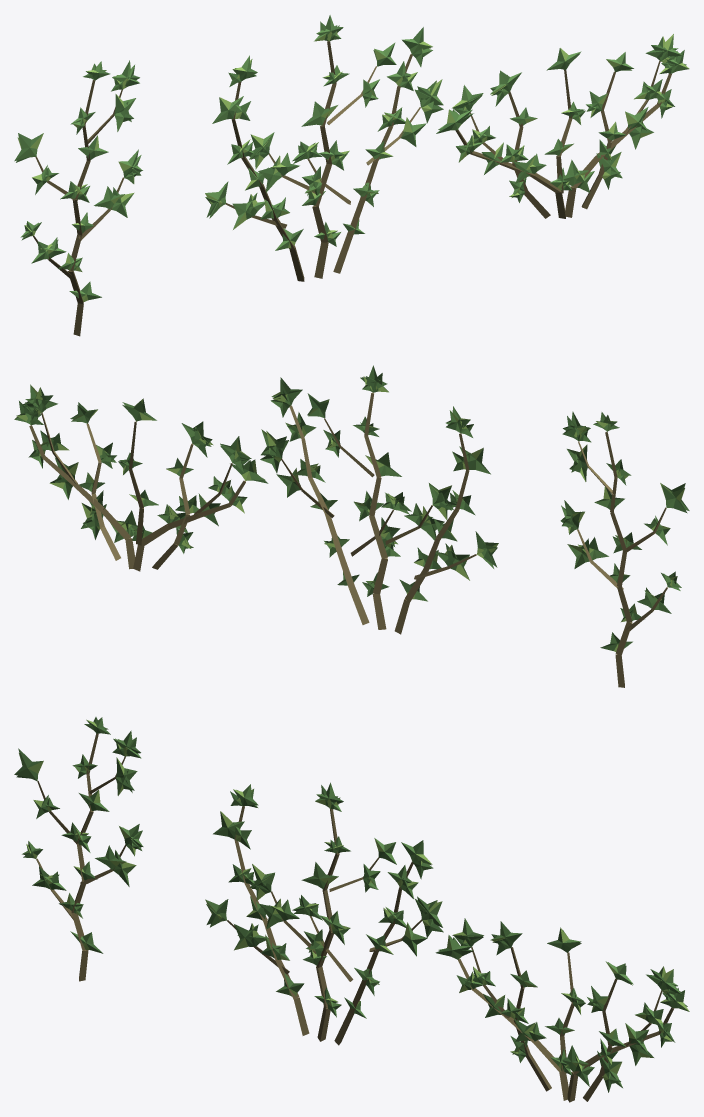
File: ivy.glb
3 renders of one model, top to bottom at view 1: azimuth 30°, elevation 25°; view 2: azimuth 150°, elevation 25°; view 3: azimuth 330°, elevation 25°, orthographic.
Visible parts, largest first — view 1: Ivy_Medium_Fan, Ivy_Low_Wide, Ivy_Narrow; view 2: Ivy_Medium_Fan, Ivy_Low_Wide, Ivy_Narrow; view 3: Ivy_Medium_Fan, Ivy_Low_Wide, Ivy_Narrow.
Part boxes in pixels (x1,y1,x2,y2): Ivy_Medium_Fan: (205, 15, 443, 281); Ivy_Low_Wide: (436, 34, 689, 218); Ivy_Narrow: (14, 60, 142, 336); Ivy_Medium_Fan: (260, 365, 498, 634); Ivy_Low_Wide: (14, 384, 268, 571); Ivy_Narrow: (560, 411, 689, 687); Ivy_Medium_Fan: (205, 782, 443, 1045); Ivy_Low_Wide: (435, 918, 689, 1102); Ivy_Narrow: (14, 717, 143, 981).
Bounding box in the file's own units: 7.45 × 2.85 × 0.094.
